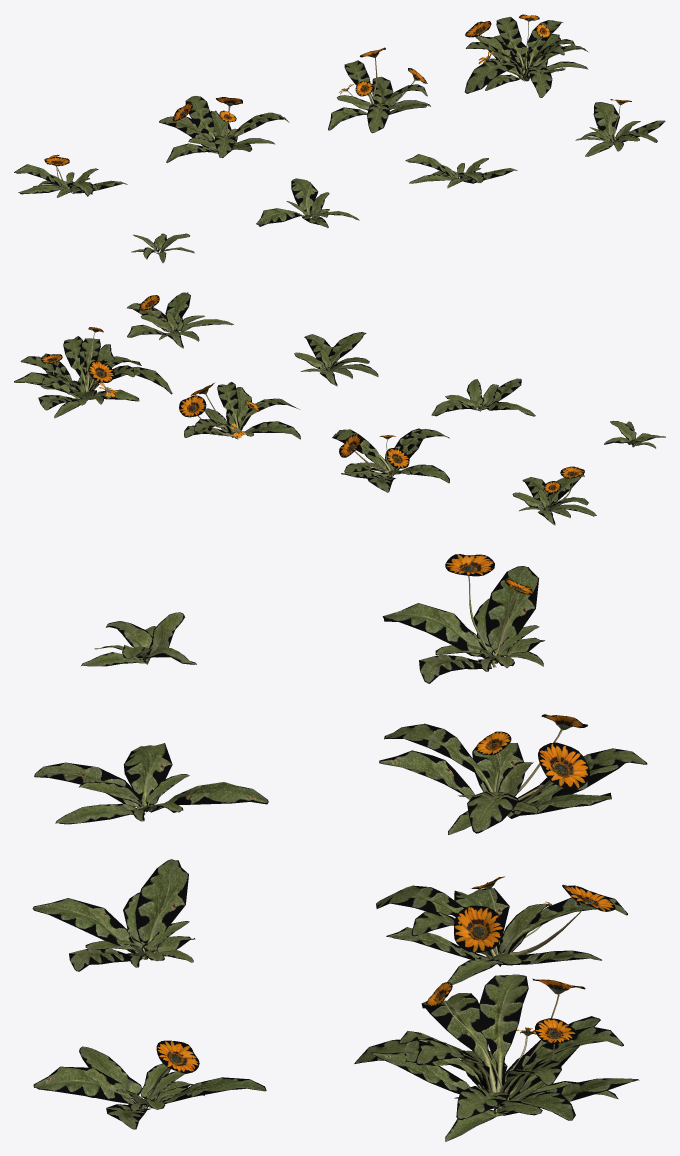
Rendered from flower_gazania_1k.gltf.
3 renders of one model, top to bottom at view 1: azimuth 30°, elevation 25°; view 2: azimuth 150°, elevation 25°; view 3: azimuth 270°, elevation 25°, orthographic. The views are drawn at different scales.
Visible parts, largest first — view 1: flower_gazania_h_LOD0, flower_gazania_f_LOD0, flower_gazania_g_LOD0, flower_gazania_d_LOD0, flower_gazania_b_LOD0, flower_gazania_e_LOD0, flower_gazania_c_LOD0, flower_gazania_a_LOD0; view 2: flower_gazania_h_LOD0, flower_gazania_g_LOD0, flower_gazania_f_LOD0, flower_gazania_d_LOD0, flower_gazania_e_LOD0, flower_gazania_c_LOD0, flower_gazania_b_LOD0, flower_gazania_a_LOD0; view 3: flower_gazania_h_LOD0, flower_gazania_f_LOD0, flower_gazania_g_LOD0, flower_gazania_e_LOD0, flower_gazania_c_LOD0, flower_gazania_d_LOD0, flower_gazania_b_LOD0, flower_gazania_a_LOD0.
Part boxes in pixels (box(x1,y1,x2,y2)): flower_gazania_h_LOD0: box(464, 14, 588, 97); flower_gazania_f_LOD0: box(159, 96, 289, 162); flower_gazania_g_LOD0: box(328, 47, 430, 133); flower_gazania_d_LOD0: box(575, 99, 665, 156); flower_gazania_b_LOD0: box(256, 178, 359, 227); flower_gazania_e_LOD0: box(14, 154, 127, 197); flower_gazania_c_LOD0: box(405, 154, 517, 188); flower_gazania_a_LOD0: box(131, 233, 194, 262); flower_gazania_h_LOD0: box(14, 327, 172, 418); flower_gazania_g_LOD0: box(179, 382, 300, 439); flower_gazania_f_LOD0: box(332, 428, 449, 492); flower_gazania_d_LOD0: box(127, 292, 233, 348); flower_gazania_e_LOD0: box(512, 466, 596, 525); flower_gazania_c_LOD0: box(294, 332, 378, 386); flower_gazania_b_LOD0: box(431, 378, 535, 416); flower_gazania_a_LOD0: box(604, 421, 665, 448); flower_gazania_h_LOD0: box(354, 974, 639, 1141); flower_gazania_f_LOD0: box(379, 714, 647, 834); flower_gazania_g_LOD0: box(376, 876, 627, 984); flower_gazania_e_LOD0: box(382, 554, 544, 683); flower_gazania_c_LOD0: box(32, 859, 194, 971); flower_gazania_d_LOD0: box(33, 1040, 266, 1129); flower_gazania_b_LOD0: box(34, 743, 268, 824); flower_gazania_a_LOD0: box(81, 612, 196, 666).
Size of the model in its own units: 1.48 by 0.1655 by 0.7028.
1 material, 1 textured.
